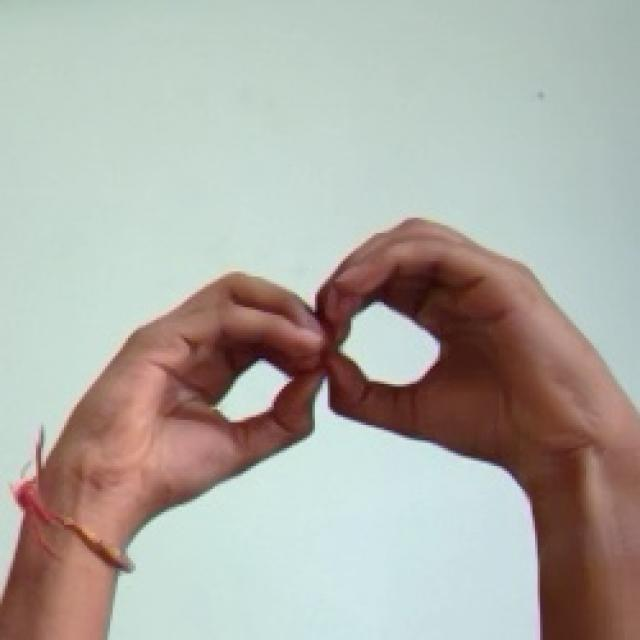Alphabet-B: (64, 216, 630, 509)
